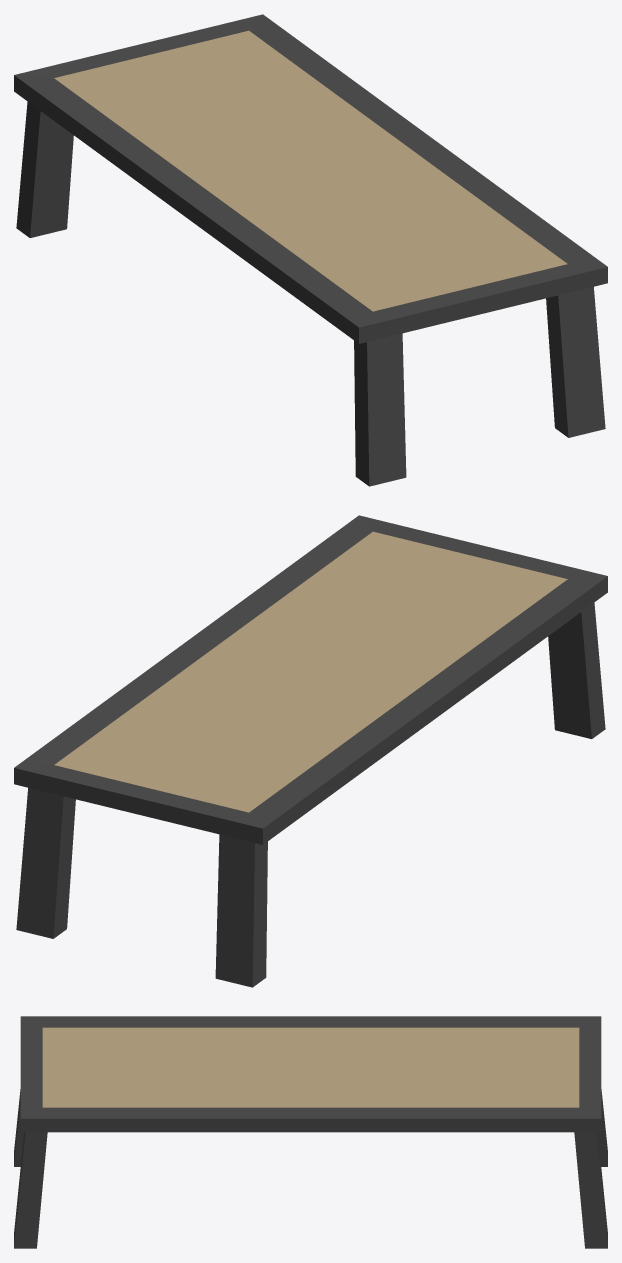
Rendered from coffee-table.fbx.
3 views of the same model, one above another, from view 1: azimuth 30°, elevation 25°; view 2: azimuth 150°, elevation 25°; view 3: azimuth 270°, elevation 25° (orthographic). The views are drawn at different scales.
Visible parts, largest first — view 1: polySurface6; view 2: polySurface6; view 3: polySurface6.
Boxes of the visible parts, bbox=[...] form: polySurface6: bbox=[14, 14, 607, 486]; polySurface6: bbox=[14, 515, 607, 987]; polySurface6: bbox=[14, 1016, 607, 1248].
Size of the model in its own units: 1.21 by 0.733 by 2.97.
